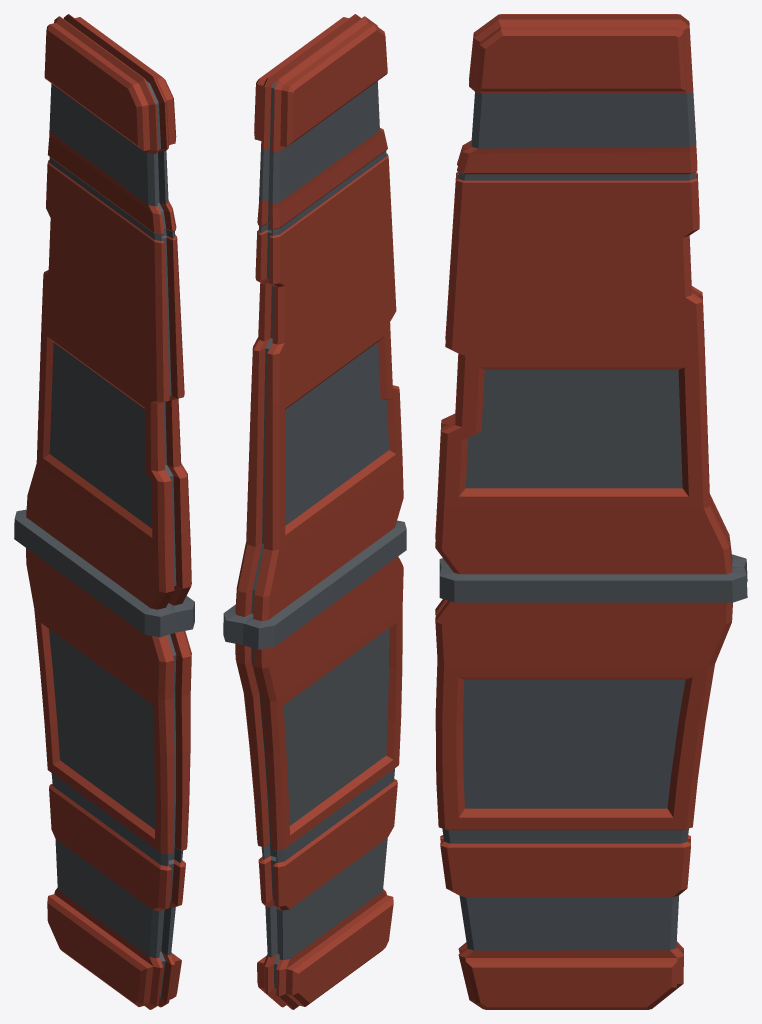
The model's file is Fighter_05_Wing_RIght_Red.fbx.
3 views of the same model, side by side, from view 1: azimuth 30°, elevation 25°; view 2: azimuth 150°, elevation 25°; view 3: azimuth 270°, elevation 25° (orthographic). The views are drawn at different scales.
Visible parts, largest first — view 1: Fighter_05_Wing_RIght_Red; view 2: Fighter_05_Wing_RIght_Red; view 3: Fighter_05_Wing_RIght_Red.
Boxes of the visible parts, <box> form: Fighter_05_Wing_RIght_Red: <box>14,14,194,1009</box>; Fighter_05_Wing_RIght_Red: <box>223,14,406,1009</box>; Fighter_05_Wing_RIght_Red: <box>435,14,747,1009</box>.
Bounding box in the file's own units: 103 × 1811 × 518.
1 material, 1 textured.
